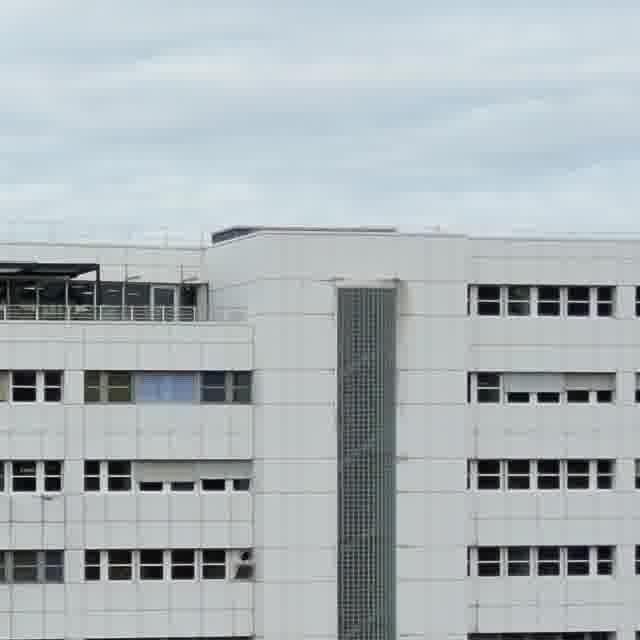Drohne: (40, 494, 54, 500)
